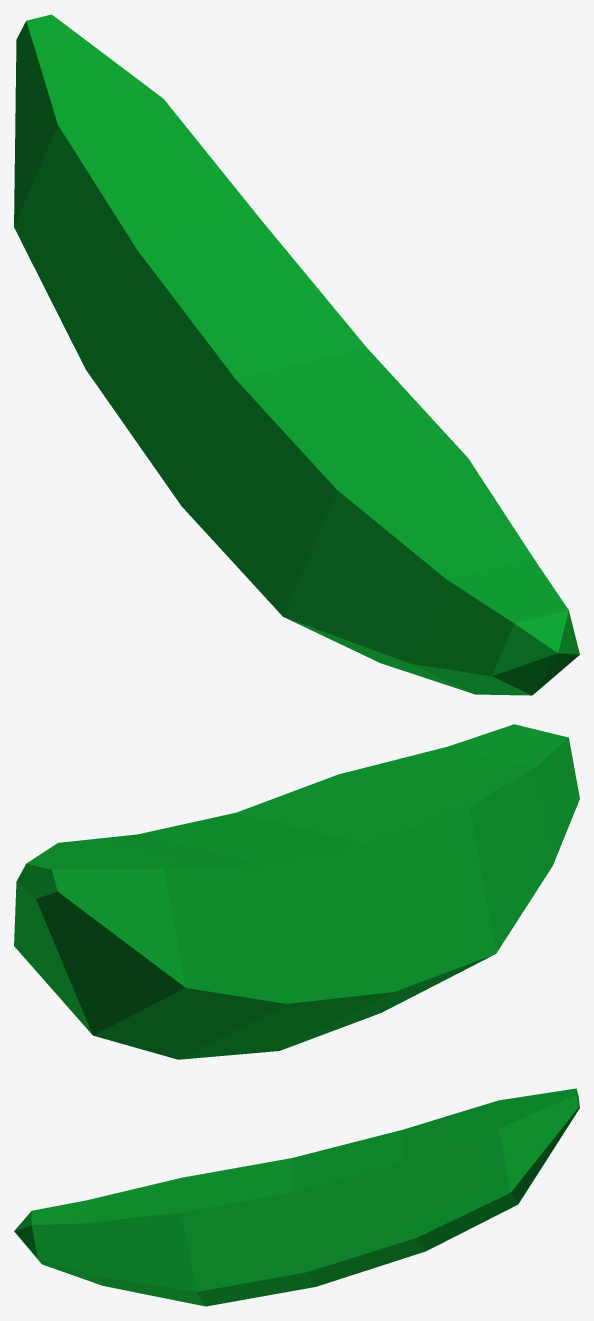
File: Cucumber.fbx
3 renders of one model, top to bottom at view 1: azimuth 30°, elevation 25°; view 2: azimuth 150°, elevation 25°; view 3: azimuth 270°, elevation 25°, orthographic. The views are drawn at different scales.
Visible parts, largest first — view 1: Cylinder; view 2: Cylinder; view 3: Cylinder.
Boxes of the visible parts, x1,y1,x2,y2 form: Cylinder: (14, 14, 579, 695); Cylinder: (14, 724, 579, 1059); Cylinder: (14, 1088, 579, 1306).
Size of the model in its own units: 183 by 327 by 781.
1 material, 1 textured.
